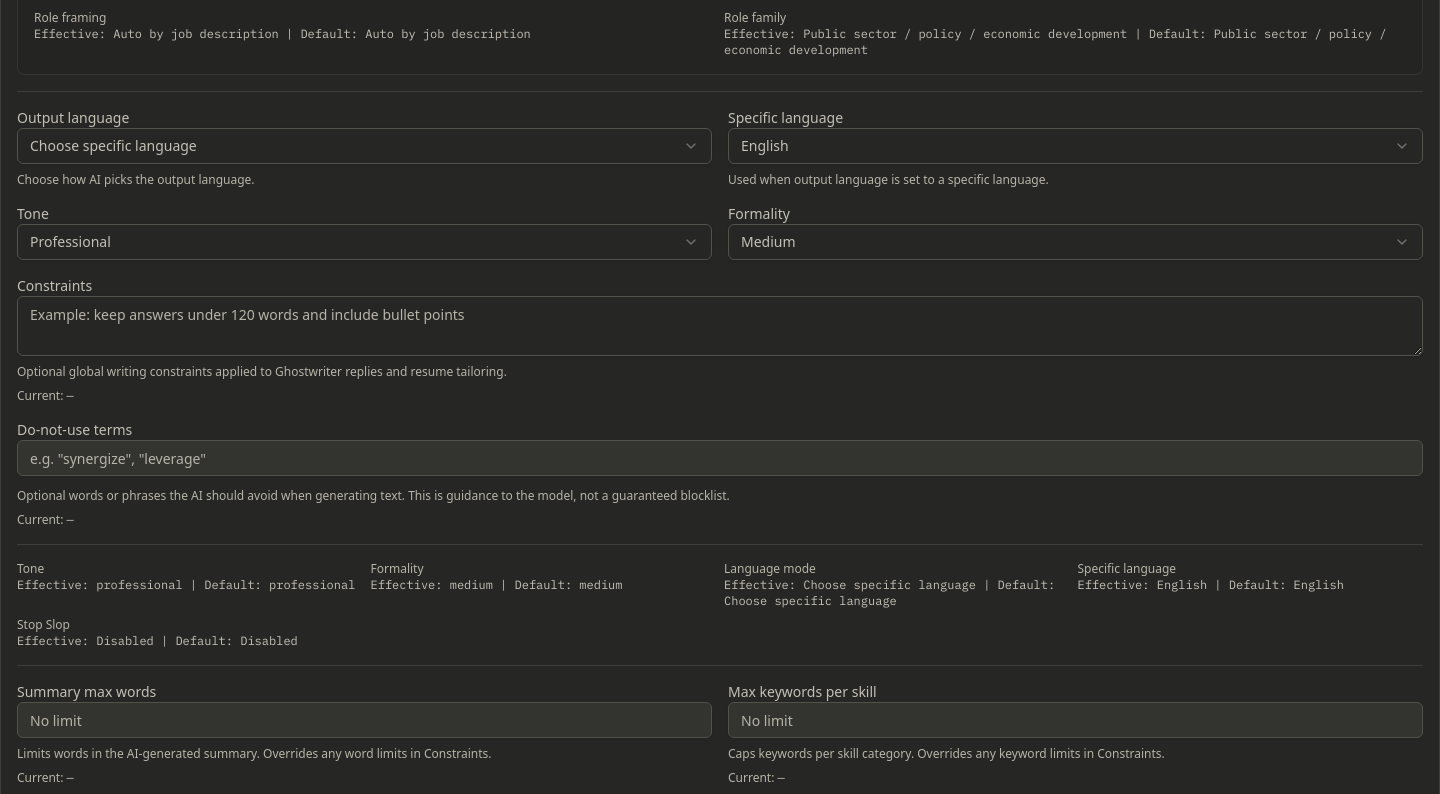
Test: ChatSettingsSection › shows validation error when max keywords per skill is out of range
(page scrolled)
Type "0" into the number field with id "chatStyleMaxKeywordsPerSkill" at (1076, 720), box [728,702,1423,738]
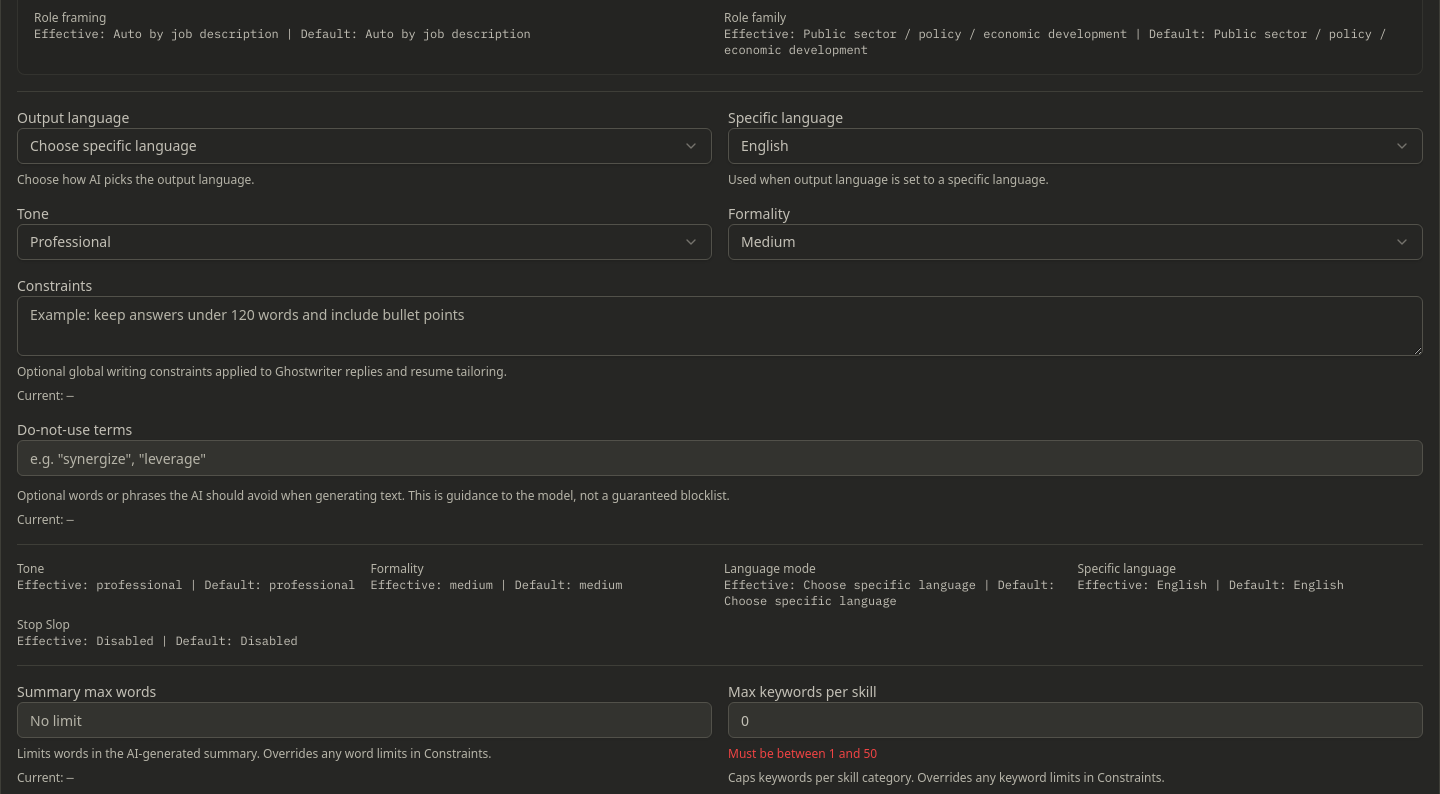
Result: the text "Must be between 1 and 50" is shown at [728,745,877,762]
